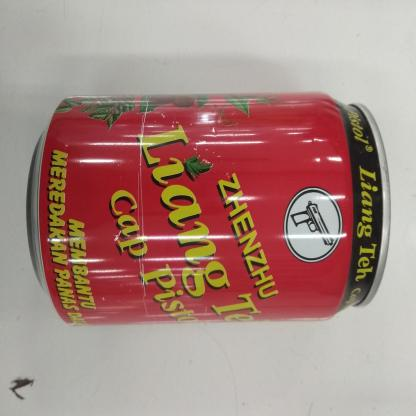can: (22, 89, 395, 336)
